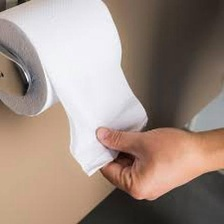tissue: (0, 0, 158, 180)
